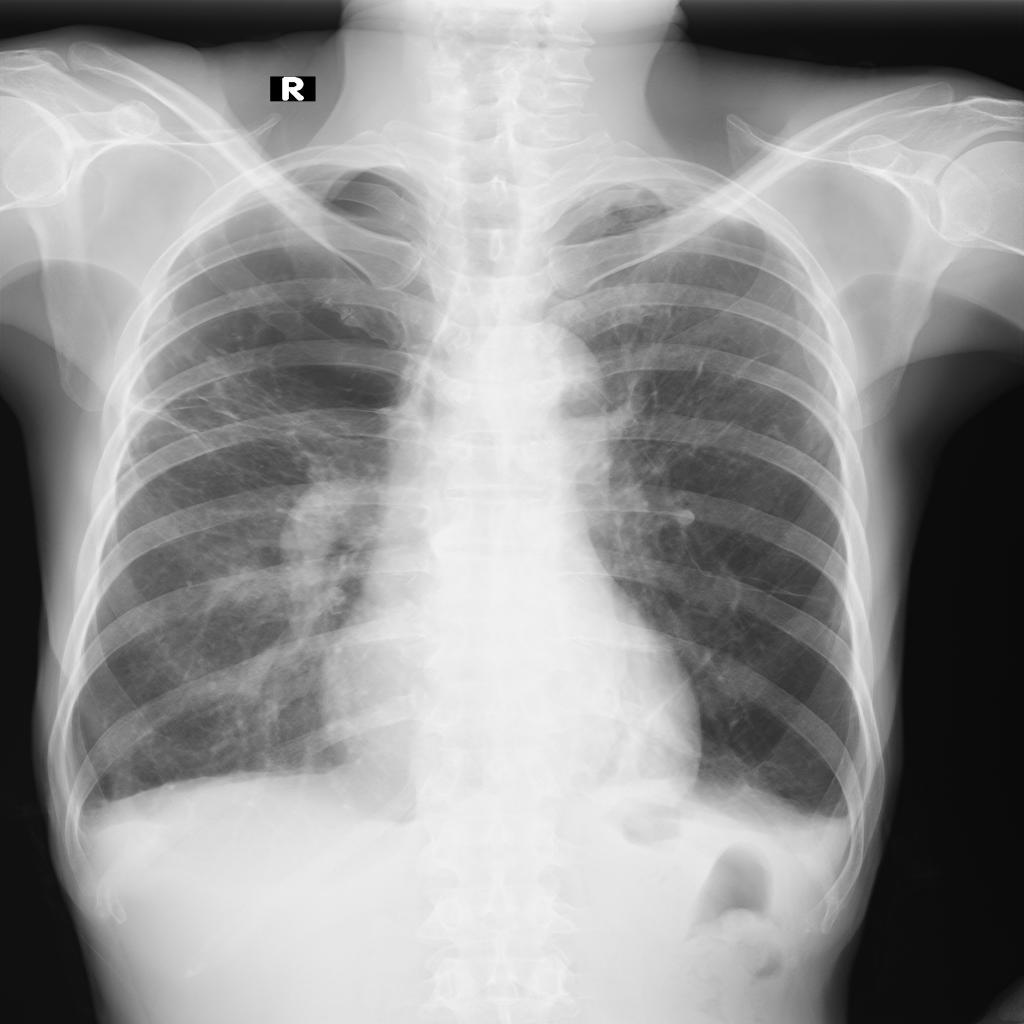Nodule: (678, 511, 697, 526)
